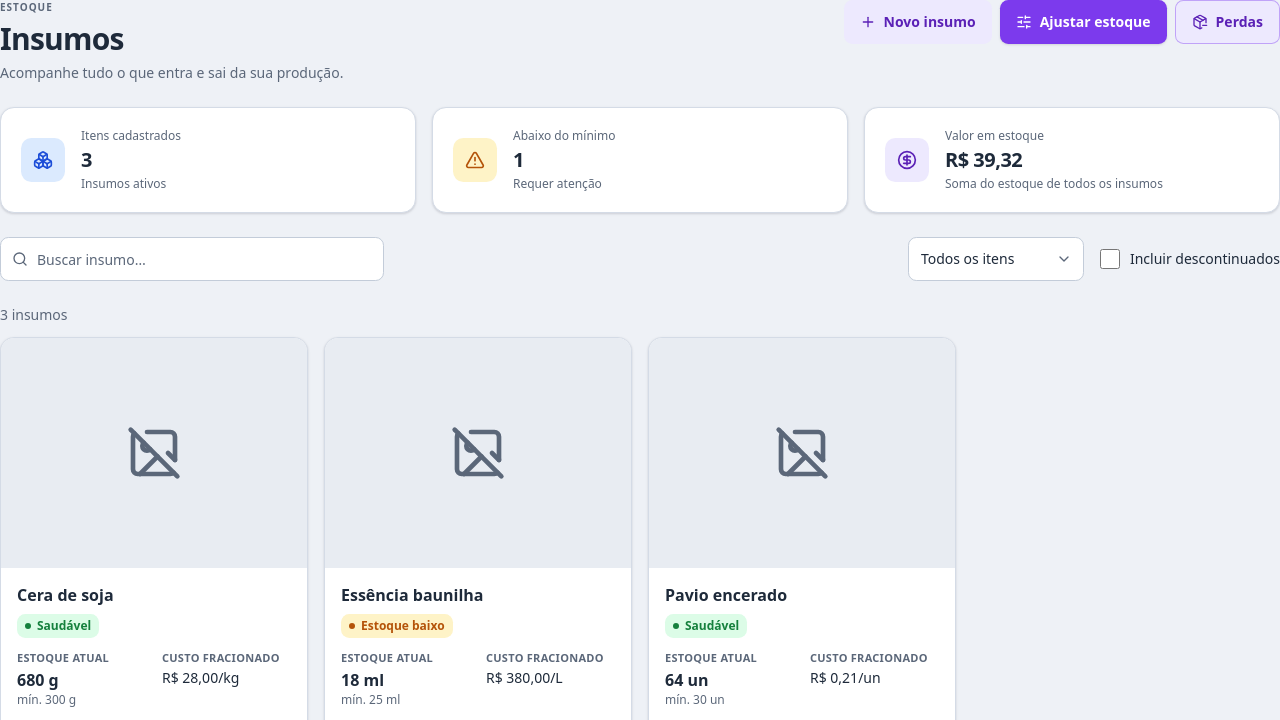
Test: registering a material › asks which unit before anything else, with no unit pre-chosen
The width and height of the screenshot is (1280, 720).
Expected: the link "Cera de soja" is shown, [17,584,114,606]
Click the button "Novo insumo" at coordinates (918, 22), box [844,0,992,44]
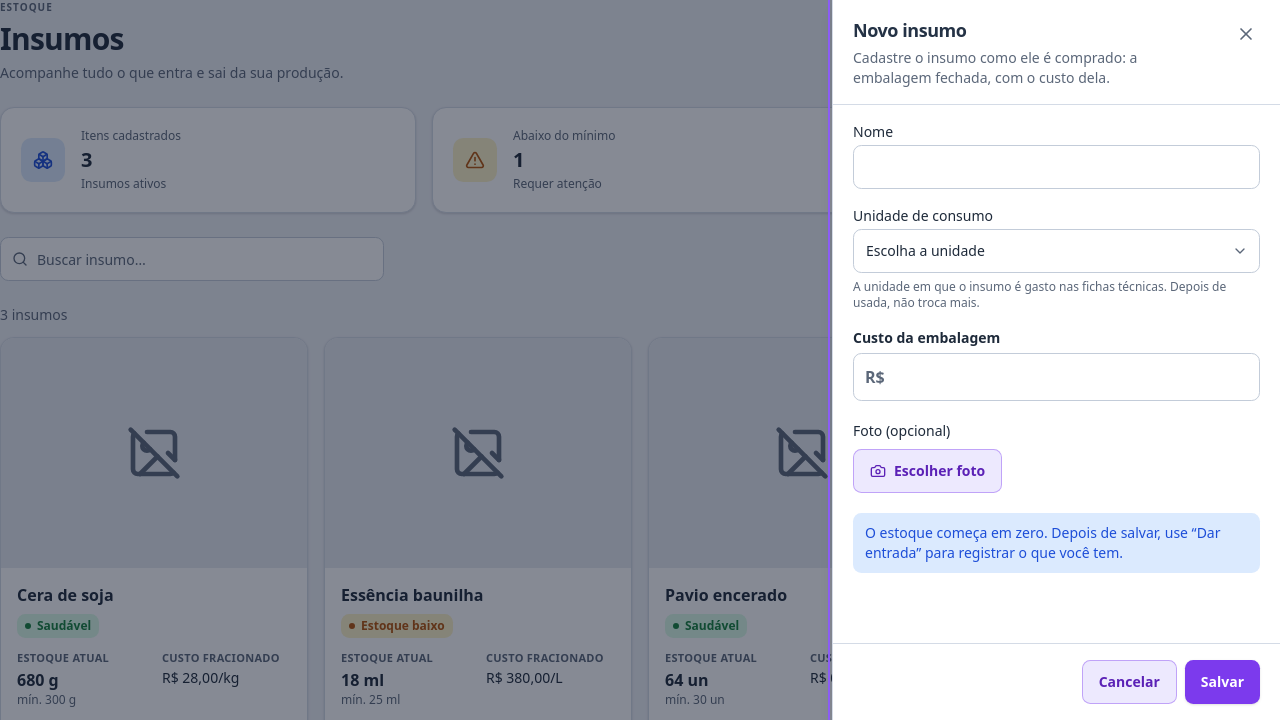
Result: the dropdown labelled "Unidade de consumo" shows "Escolha a unidade" at [853,229,1260,273]
Click the button "Salvar" at coordinates (1222, 682), box [1185,660,1260,704]
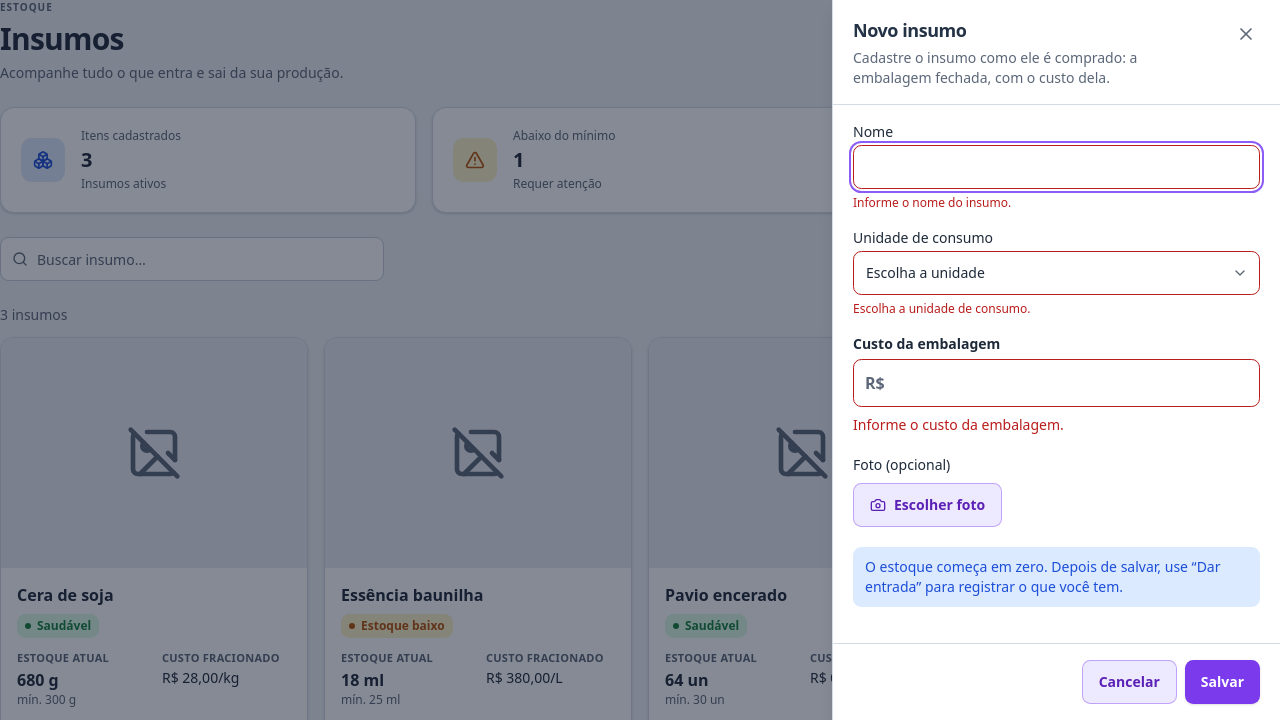
Result: the text "Escolha a unidade de consumo." is shown at [853,300,1030,317]
